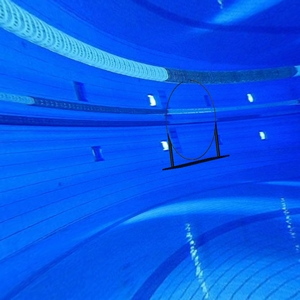circle: (160, 79, 232, 174)
